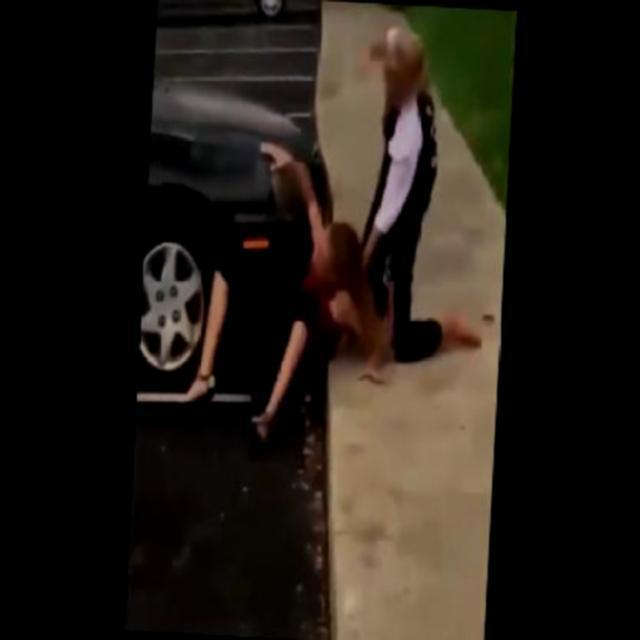fight: (244, 16, 500, 370)
